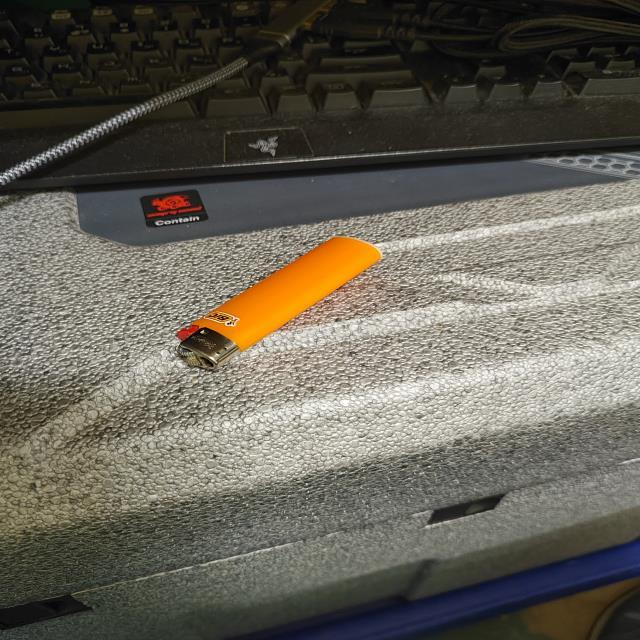lighter: (176, 238, 381, 370)
